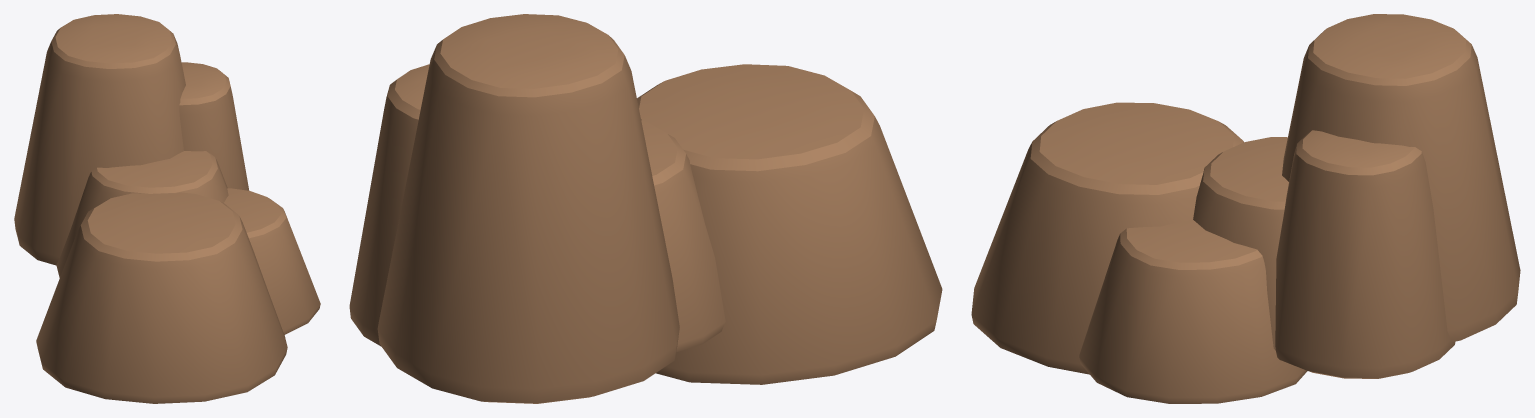
File: RockPlatforms_1_003.gltf
3 views of the same model, side by side, from view 1: azimuth 30°, elevation 25°; view 2: azimuth 150°, elevation 25°; view 3: azimuth 270°, elevation 25° (orthographic). The views are drawn at different scales.
Visible parts, largest first — view 1: RockPlatforms_1.003; view 2: RockPlatforms_1.003; view 3: RockPlatforms_1.003.
Part boxes in pixels (box(x1,y1,x2,y2)): RockPlatforms_1.003: box(14, 14, 320, 403); RockPlatforms_1.003: box(349, 14, 942, 403); RockPlatforms_1.003: box(971, 14, 1520, 403).
Size of the model in its own units: 5.59 by 4.53 by 7.3.
